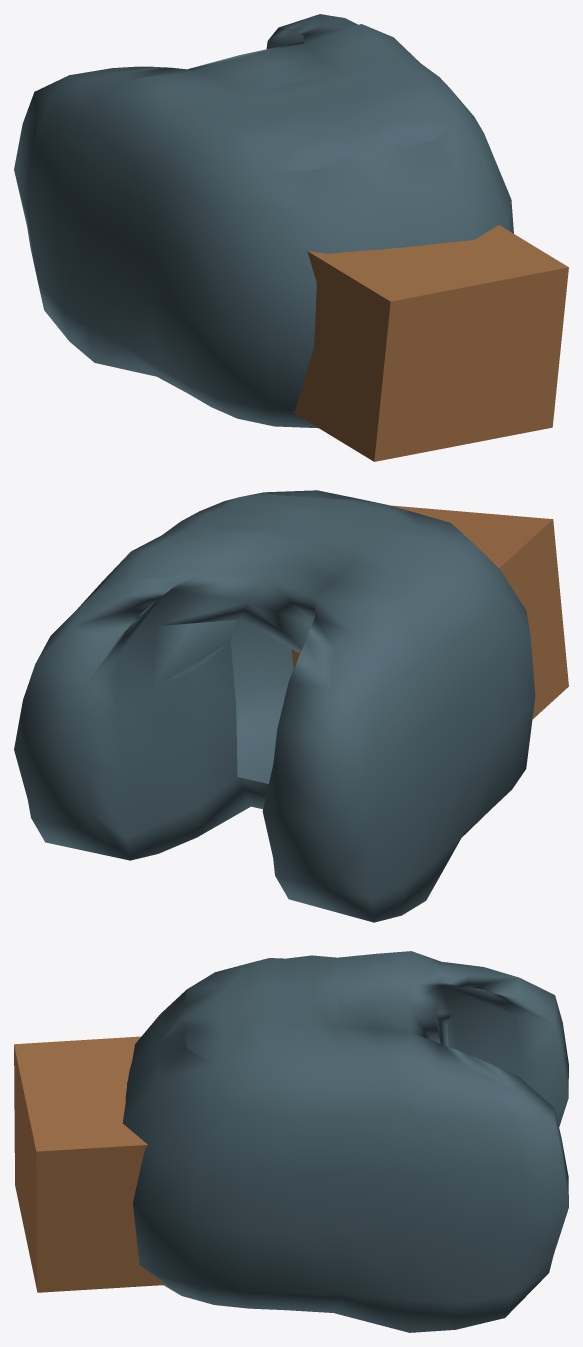
Rendered from CabBaggage.fbx.
3 renders of one model, top to bottom at view 1: azimuth 30°, elevation 25°; view 2: azimuth 150°, elevation 25°; view 3: azimuth 270°, elevation 25°, orthographic. The views are drawn at different scales.
Visible parts, largest first — view 1: Baggage, Cube; view 2: Baggage, Cube; view 3: Baggage, Cube.
Boxes of the visible parts, bbox=[...] form: Baggage: bbox=[14, 14, 513, 428]; Cube: bbox=[292, 225, 568, 461]; Baggage: bbox=[14, 490, 535, 922]; Cube: bbox=[291, 505, 568, 719]; Baggage: bbox=[122, 951, 568, 1332]; Cube: bbox=[14, 1036, 164, 1292].
Bounding box in the file's own units: 239 × 183 × 357.
